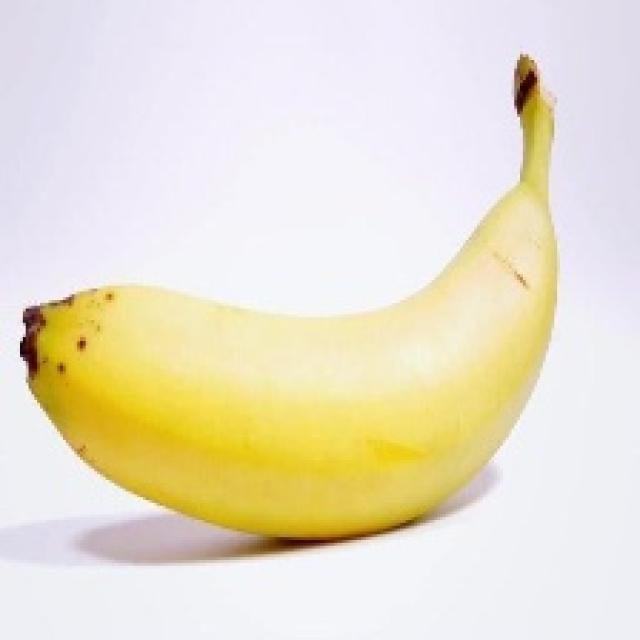Banana: (17, 51, 560, 540)
